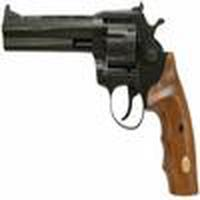gun: (2, 3, 200, 191)
